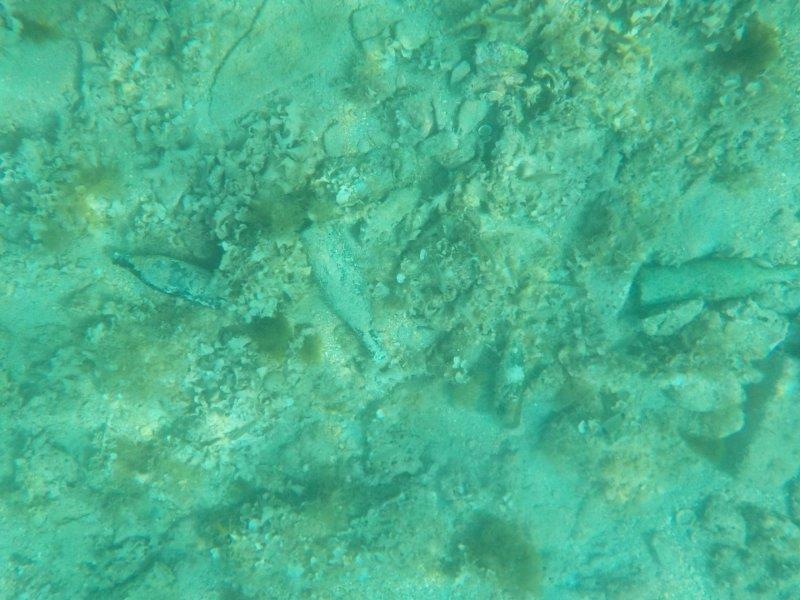bottle: (295, 217, 390, 365), (634, 255, 800, 305), (109, 250, 231, 313), (491, 326, 533, 433)
